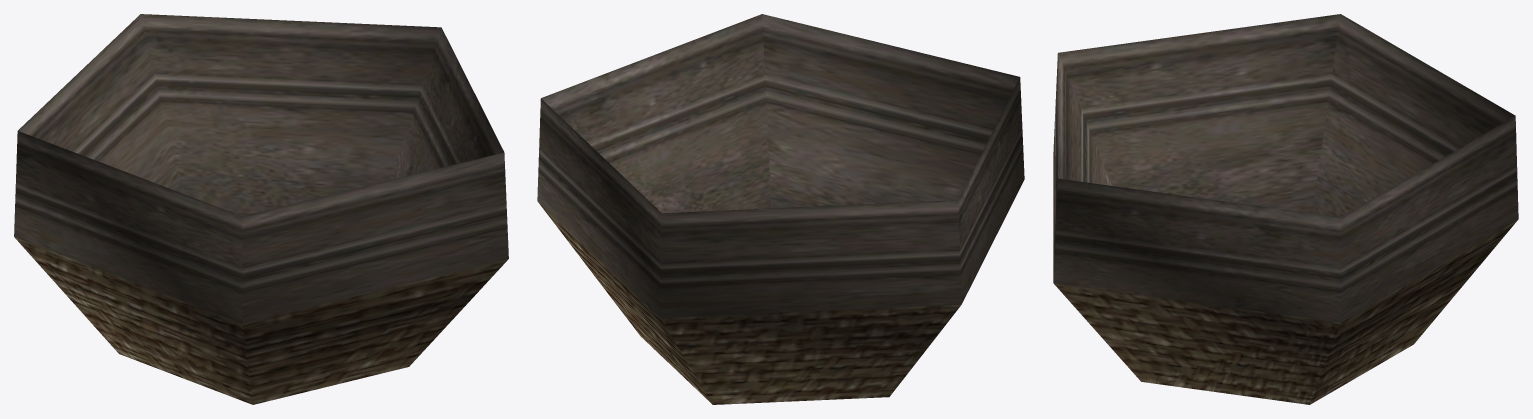
The model's file is edb_con_tato_bowl_empty_s03_l2.fbx.
The picture shows the model from 3 angles, left to right: view 1: azimuth 30°, elevation 25°; view 2: azimuth 150°, elevation 25°; view 3: azimuth 270°, elevation 25°; orthographic projection.
Parts seen in each view (by area): view 1: mesh_node; view 2: mesh_node; view 3: mesh_node.
Boxes of the visible parts, left/top/right/bottom form: mesh_node: left=14, top=14, right=508, bottom=404; mesh_node: left=537, top=14, right=1024, bottom=404; mesh_node: left=1053, top=14, right=1518, bottom=404.
Bounding box in the file's own units: 0.5977 × 0.3082 × 0.5685.
